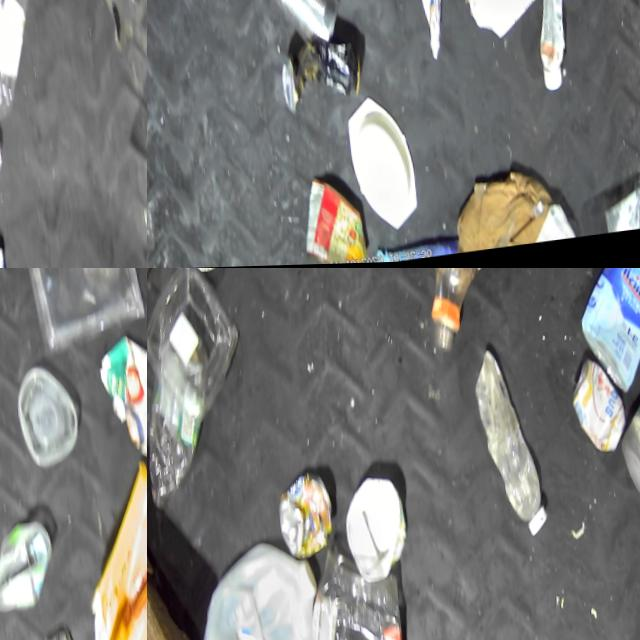can: (275, 35, 364, 113), (296, 171, 367, 266), (565, 353, 628, 459), (273, 472, 337, 563), (0, 519, 55, 617), (267, 0, 341, 49), (597, 178, 640, 236)
milk_jug: (189, 534, 330, 640)
non_white_jug: (73, 456, 147, 640), (569, 268, 640, 398)
plastic_bottle: (468, 342, 547, 545), (147, 367, 212, 510), (0, 0, 46, 142)
